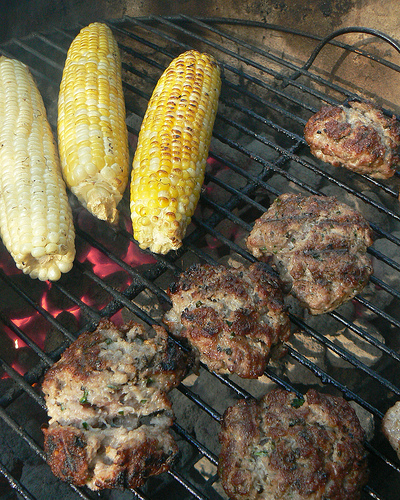corn: (130, 48, 222, 253), (0, 55, 76, 280), (53, 16, 128, 221)
